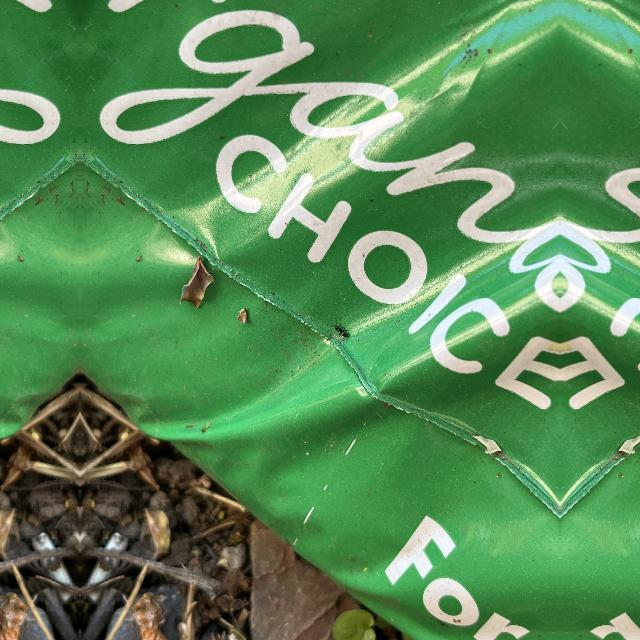Tapinoma: (332, 320, 352, 340)
